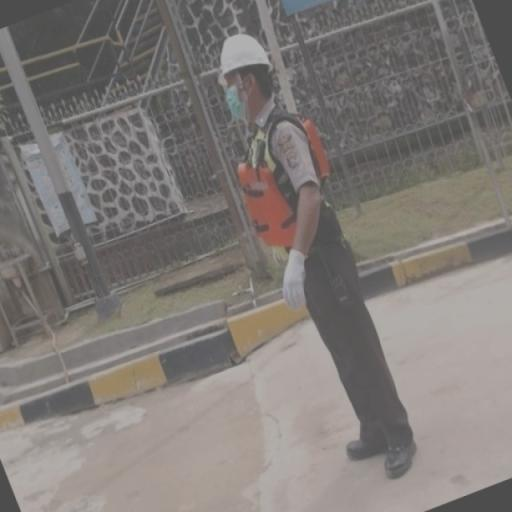Person: (166, 18, 445, 488)
boots: (332, 404, 394, 462), (379, 412, 421, 482)
gloves: (265, 241, 323, 315)
helmet: (210, 26, 280, 84)
vest: (222, 105, 340, 252)
